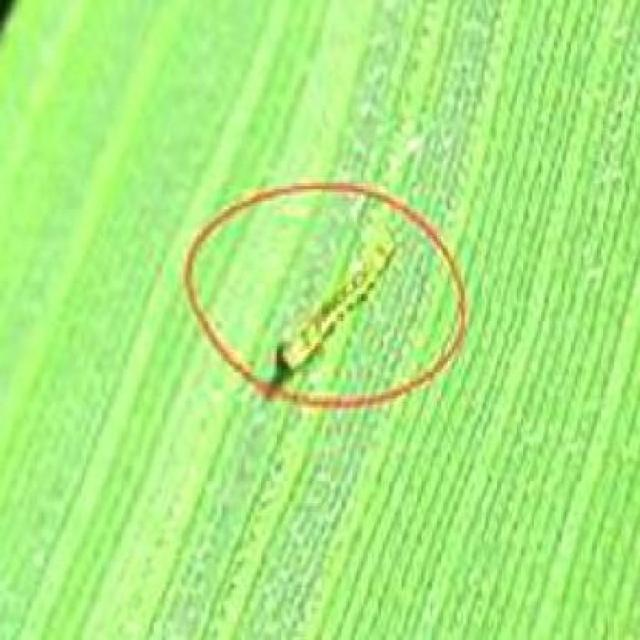leaf-folder: (255, 203, 431, 395)
